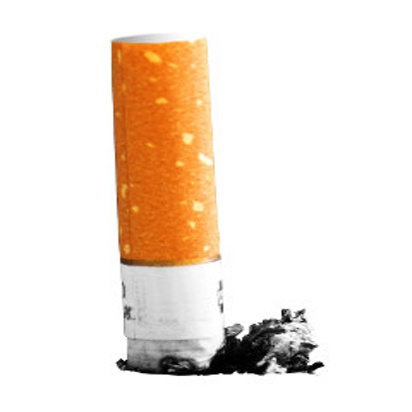cigarette: (100, 27, 245, 380)
